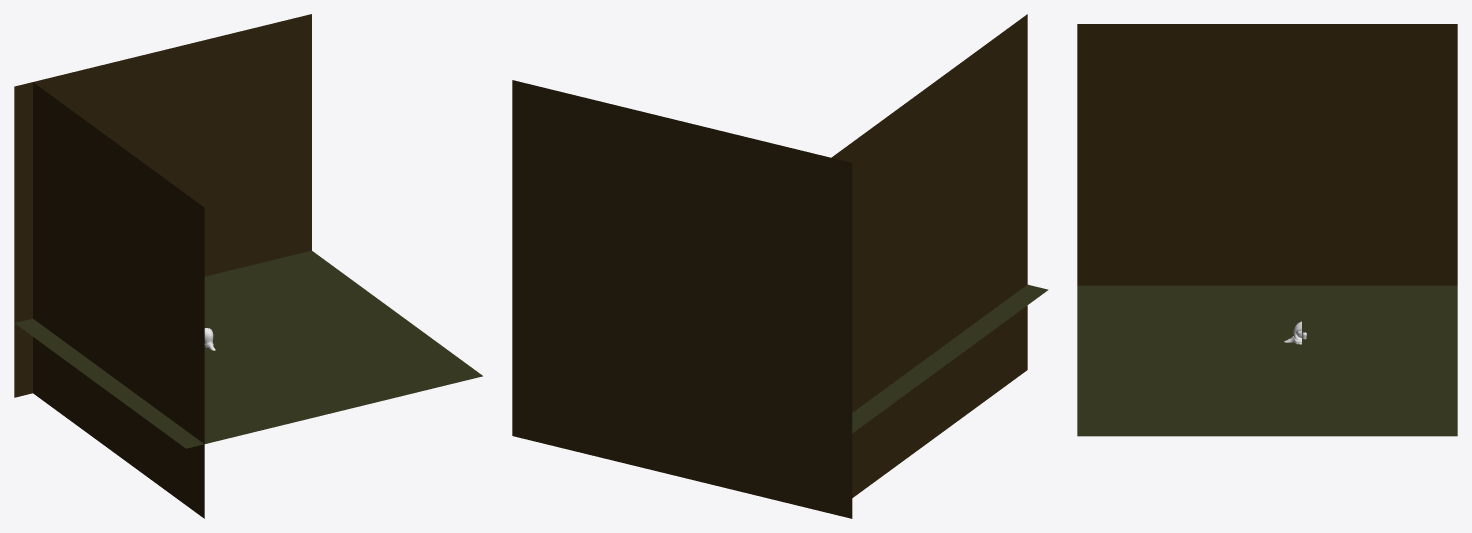
File: LucaNaselli_StalkerBoi_RenderLightbox.fbx
3 renders of one model, left to right at view 1: azimuth 30°, elevation 25°; view 2: azimuth 150°, elevation 25°; view 3: azimuth 270°, elevation 25°, orthographic. The views are drawn at different scales.
Parts seen in each view (by area): view 1: Plane.002, Plane.001, Plane; view 2: Plane.001, Plane.002, Plane; view 3: Plane.002, Plane.
Part boxes in pixels (<box>): Plane.002: <box>33,82,204,518</box>; Plane.001: <box>14,14,311,397</box>; Plane: <box>14,250,482,448</box>; Plane.001: <box>512,80,852,518</box>; Plane.002: <box>831,14,1027,497</box>; Plane: <box>852,284,1048,433</box>; Plane.002: <box>1077,24,1457,285</box>; Plane: <box>1077,285,1457,436</box>.
Bounding box in the file's own units: 1330 × 1330 × 1330.
